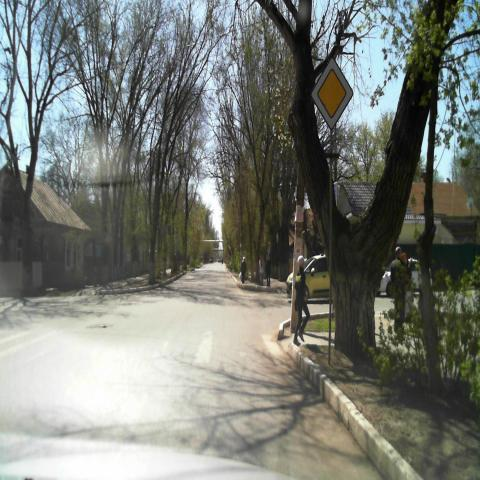2_1: (312, 58, 354, 131)
